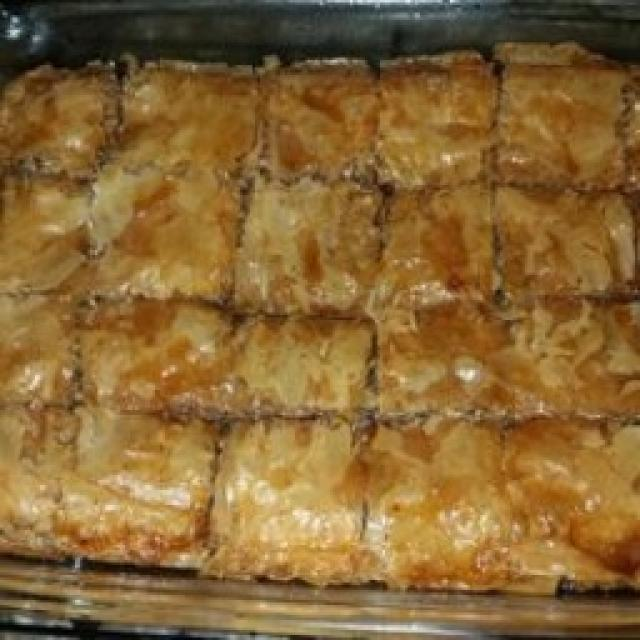Baklawa: (0, 15, 640, 640)
